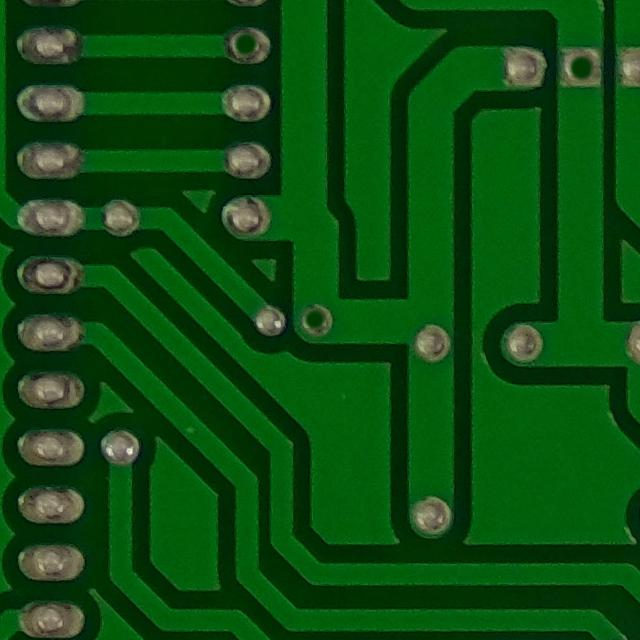missing_hole: (218, 13, 277, 75), (555, 39, 607, 97), (290, 292, 343, 343)
